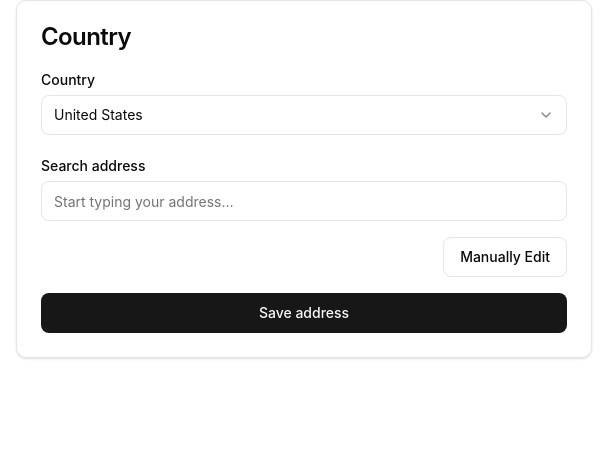
AddressForm — metadata-driven render (US1) › falls back to the backend English label when no local translation exists
Click the button "Manually Edit".
click(505, 257)  # box 443,237 -> 567,277
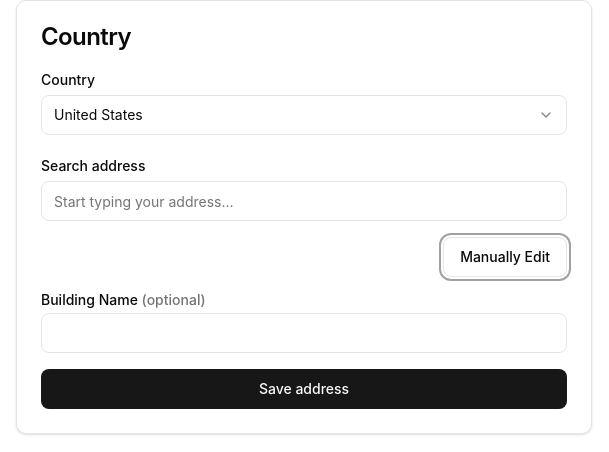
Expected: the field labelled "Building Name (optional)" is shown, 41,313 -> 567,353
